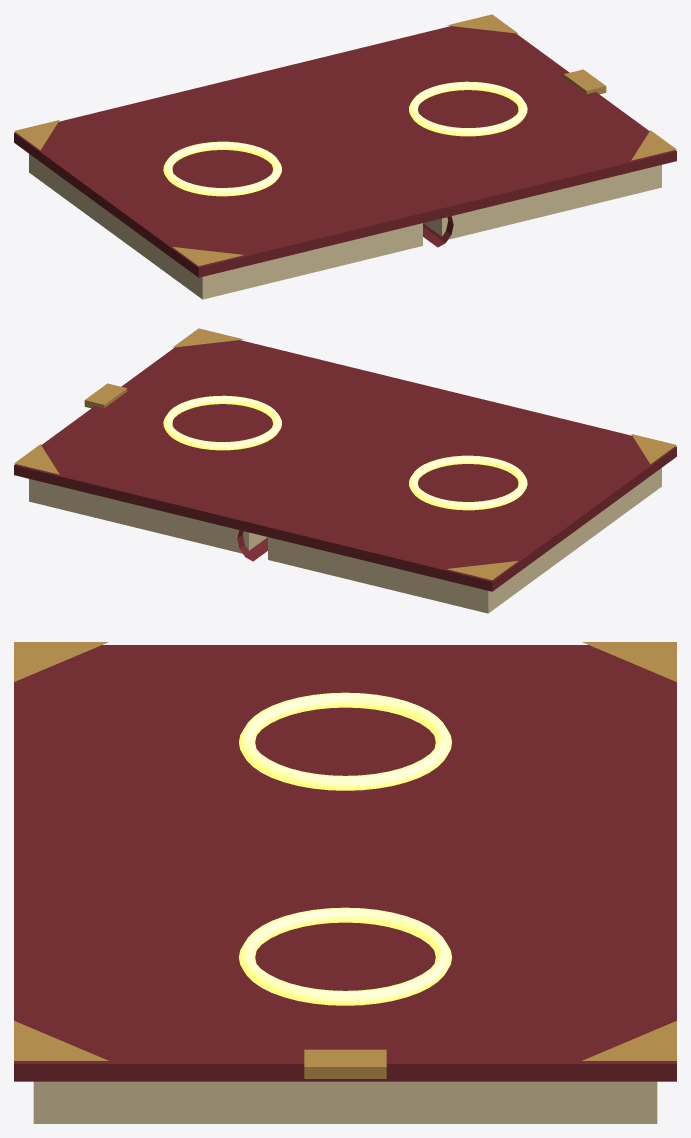
The model's file is runaway_book.glb.
The picture shows the model from 3 angles, top to bottom: view 1: azimuth 30°, elevation 25°; view 2: azimuth 150°, elevation 25°; view 3: azimuth 270°, elevation 25°; orthographic projection. The views are drawn at different scales.
Parts seen in each view (by area): view 1: CoverMesh_R, CoverMesh_L, Rune_R, Rune_L, Clasp, Spine; view 2: CoverMesh_R, CoverMesh_L, Rune_R, Rune_L, Clasp, Spine; view 3: CoverMesh_L, CoverMesh_R, Rune_L, Rune_R, Clasp.
Part boxes in pixels (left/top/right/bottom): CoverMesh_R: left=14, top=74, right=437, bottom=299; CoverMesh_L: left=253, top=14, right=676, bottom=239; Rune_R: left=163, top=141, right=281, bottom=196; Rune_L: left=409, top=81, right=527, bottom=136; Clasp: left=563, top=69, right=606, bottom=94; Spine: left=423, top=216, right=453, bottom=247; CoverMesh_R: left=253, top=388, right=676, bottom=613; CoverMesh_L: left=14, top=328, right=437, bottom=553; Rune_R: left=409, top=455, right=527, bottom=510; Rune_L: left=163, top=395, right=281, bottom=450; Clasp: left=84, top=383, right=127, bottom=408; Spine: left=237, top=530, right=267, bottom=561; CoverMesh_L: left=14, top=854, right=676, bottom=1123; CoverMesh_R: left=14, top=642, right=676, bottom=854; Rune_L: left=239, top=907, right=451, bottom=1005; Rune_R: left=239, top=692, right=451, bottom=790; Clasp: left=304, top=1049, right=386, bottom=1078.
Bounding box in the file's own units: 0.617 × 0.0542 × 0.404.
